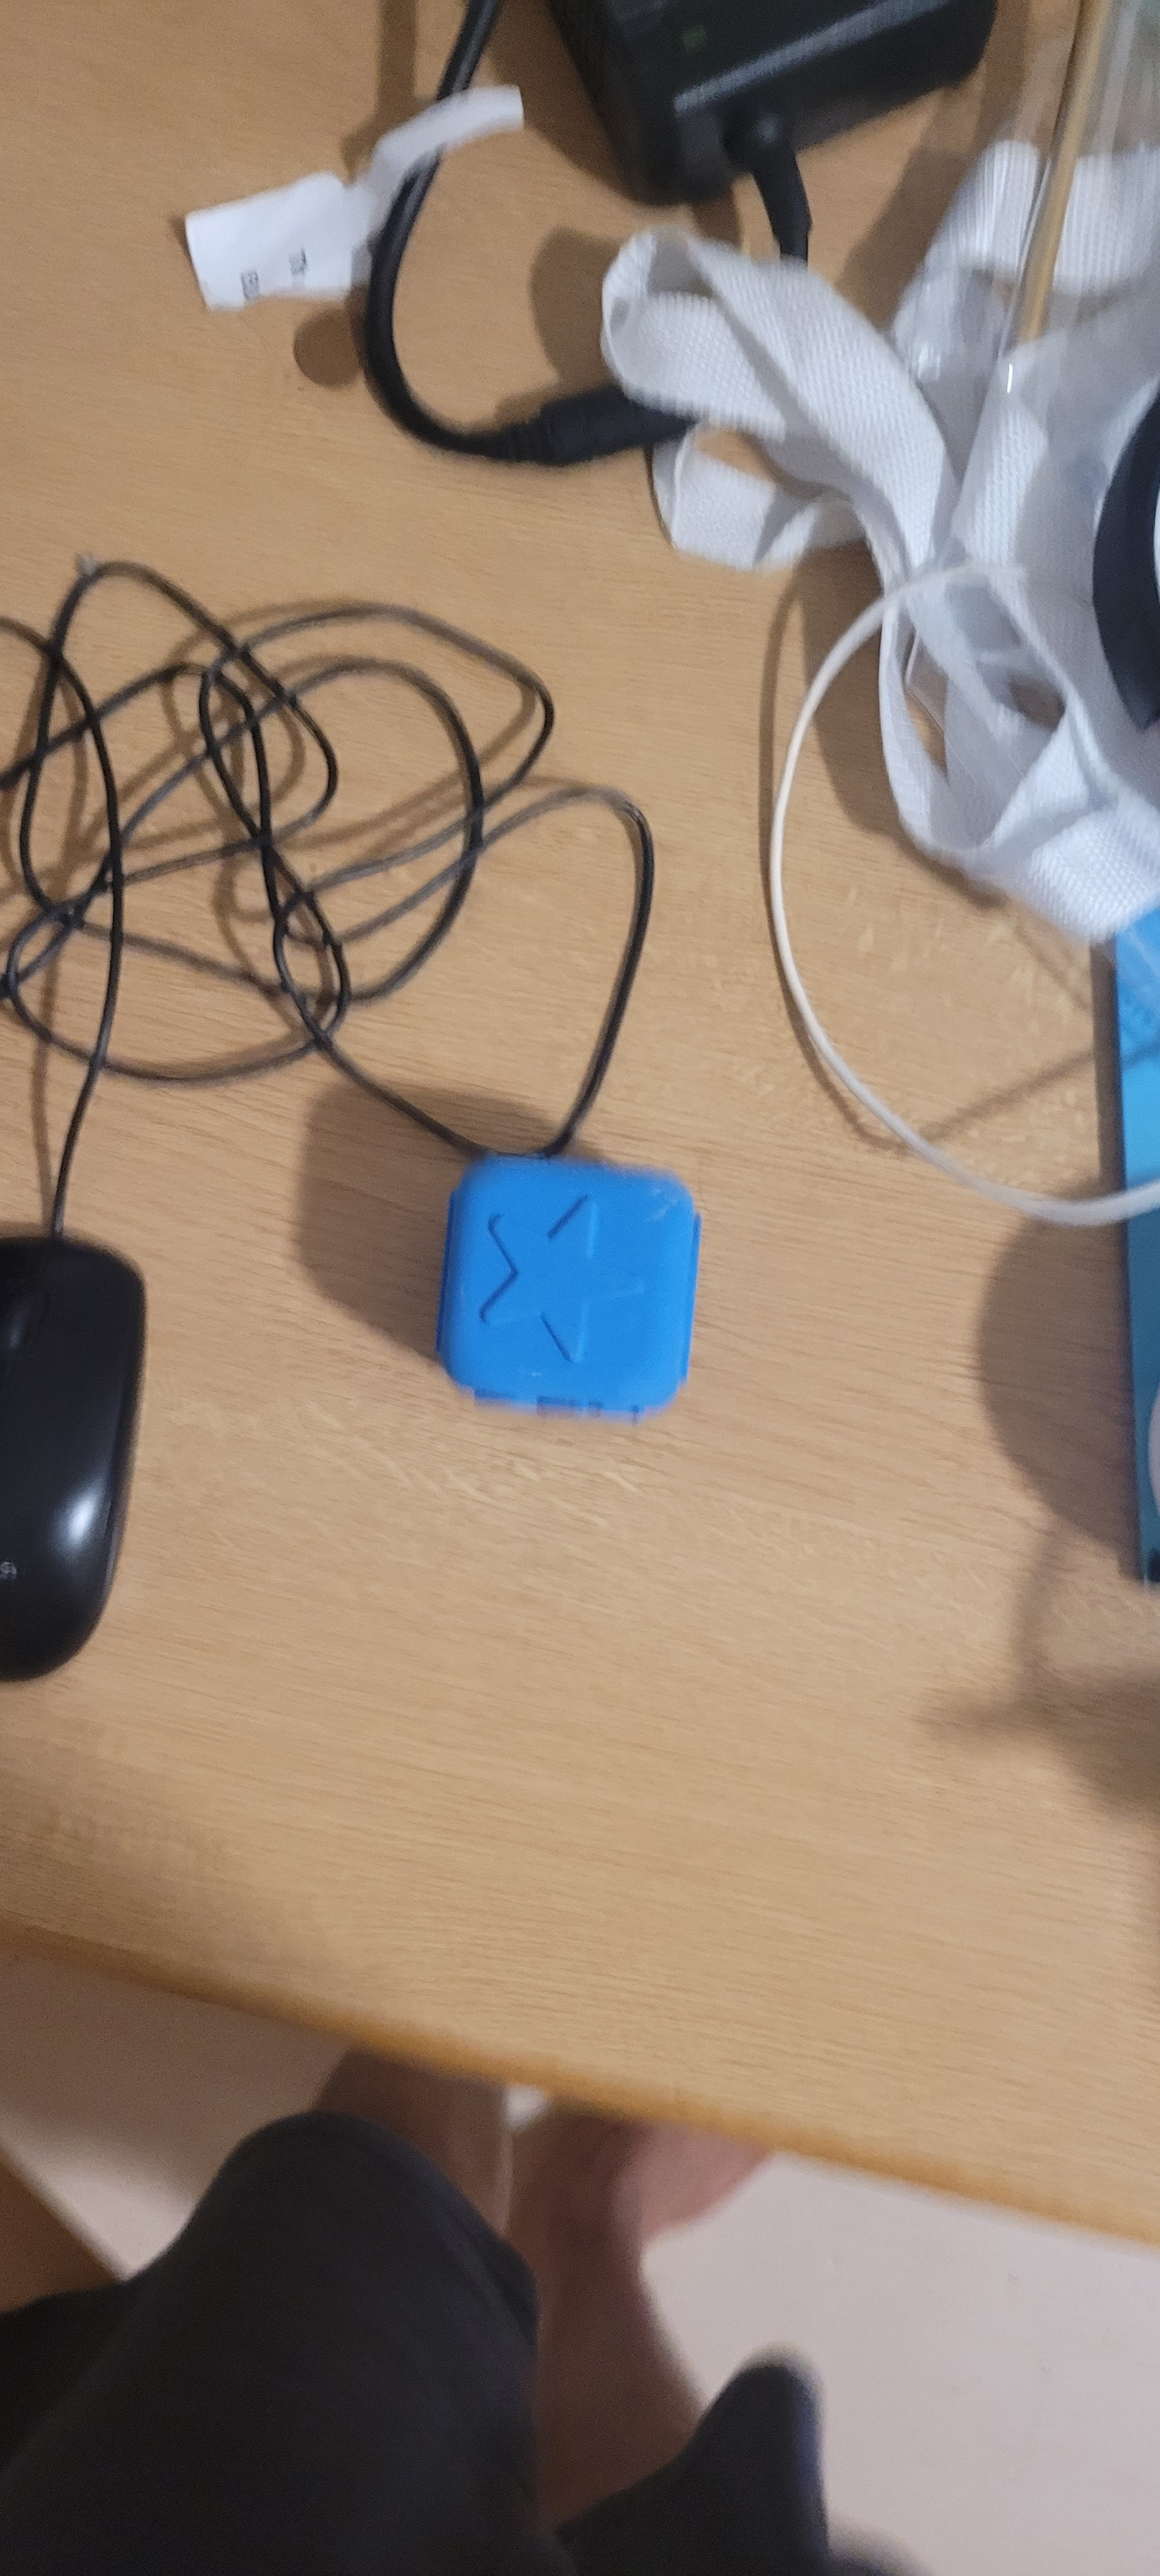Star: (467, 1142, 682, 1387)
